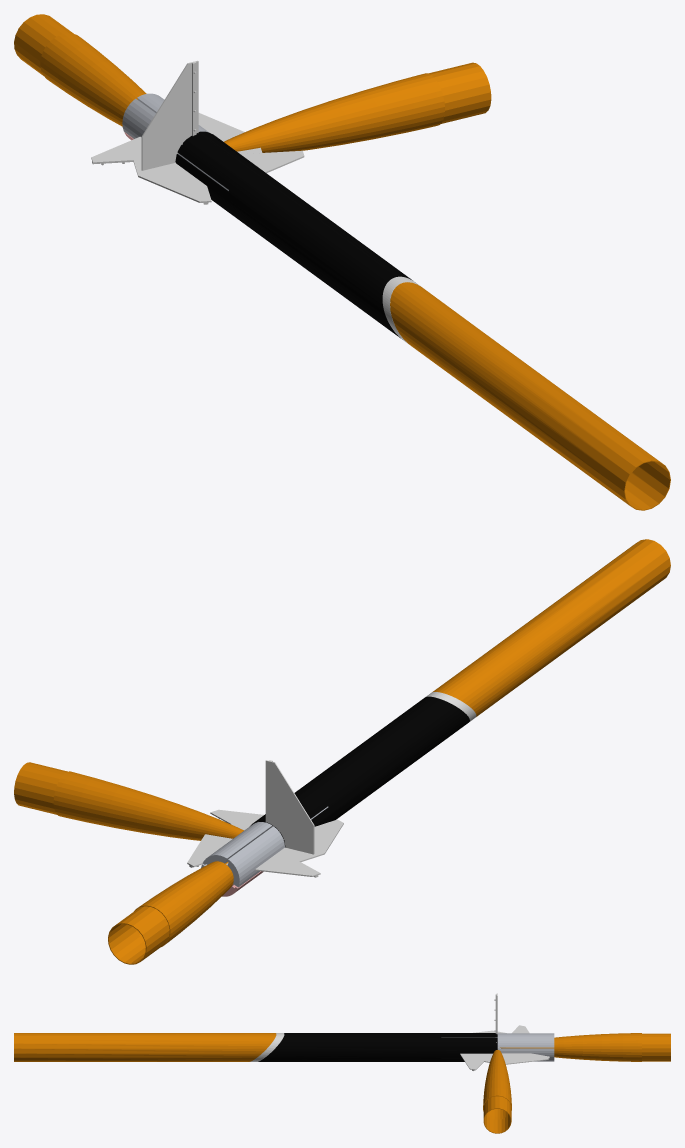
File: Assieme_3D_tolleranze_2mm_20.gltf
3 renders of one model, top to bottom at view 1: azimuth 30°, elevation 25°; view 2: azimuth 150°, elevation 25°; view 3: azimuth 270°, elevation 25°, orthographic. The views are drawn at different scales.
Visible parts, largest first — view 1: constellation_1, constellation_2 (×2), constellation_12 (×2), constellation_13, constellation_17, constellation_16, constellation_15; view 2: constellation_1, constellation_2 (×2), constellation_12 (×2), constellation_17, constellation_10, constellation_13, constellation_15; view 3: constellation_1, constellation_2 (×2), constellation_10, constellation_15, constellation_11, constellation_16.
Boxes of the visible parts, x1,y1,x2,y2 form: constellation_1: (175, 131, 670, 510); constellation_2 (×2): (14, 14, 491, 152); constellation_12 (×2): (91, 60, 198, 170); constellation_13: (133, 159, 211, 204); constellation_17: (122, 98, 155, 138); constellation_16: (241, 150, 304, 173); constellation_15: (198, 113, 262, 154); constellation_1: (250, 539, 670, 847); constellation_2 (×2): (14, 762, 243, 964); constellation_12 (×2): (255, 760, 320, 877); constellation_17: (226, 826, 284, 887); constellation_10: (202, 822, 272, 864); constellation_13: (280, 819, 343, 861); constellation_15: (187, 824, 235, 867); constellation_1: (14, 1033, 497, 1061); constellation_2 (×2): (483, 1033, 670, 1133); constellation_10: (497, 1033, 554, 1047); constellation_15: (484, 1048, 549, 1064); constellation_11: (497, 1048, 554, 1061); constellation_16: (460, 1053, 490, 1070).
Bounding box in the file's own units: 797 × 251 × 2310.
